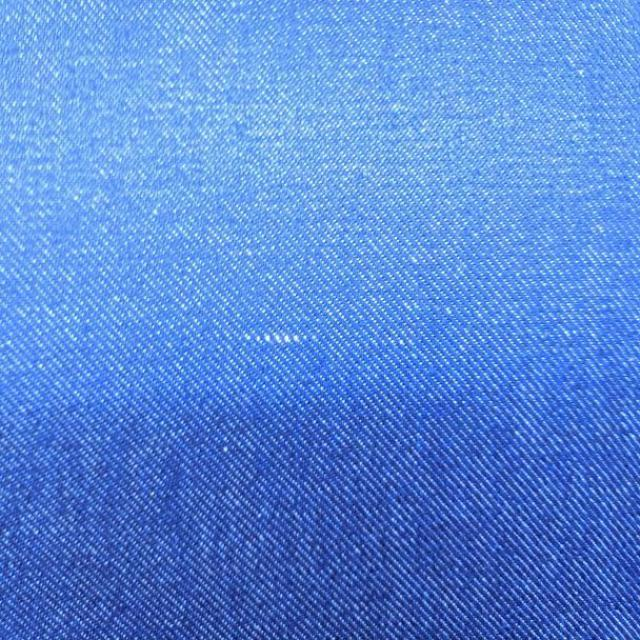Knot: (244, 332, 317, 346)
